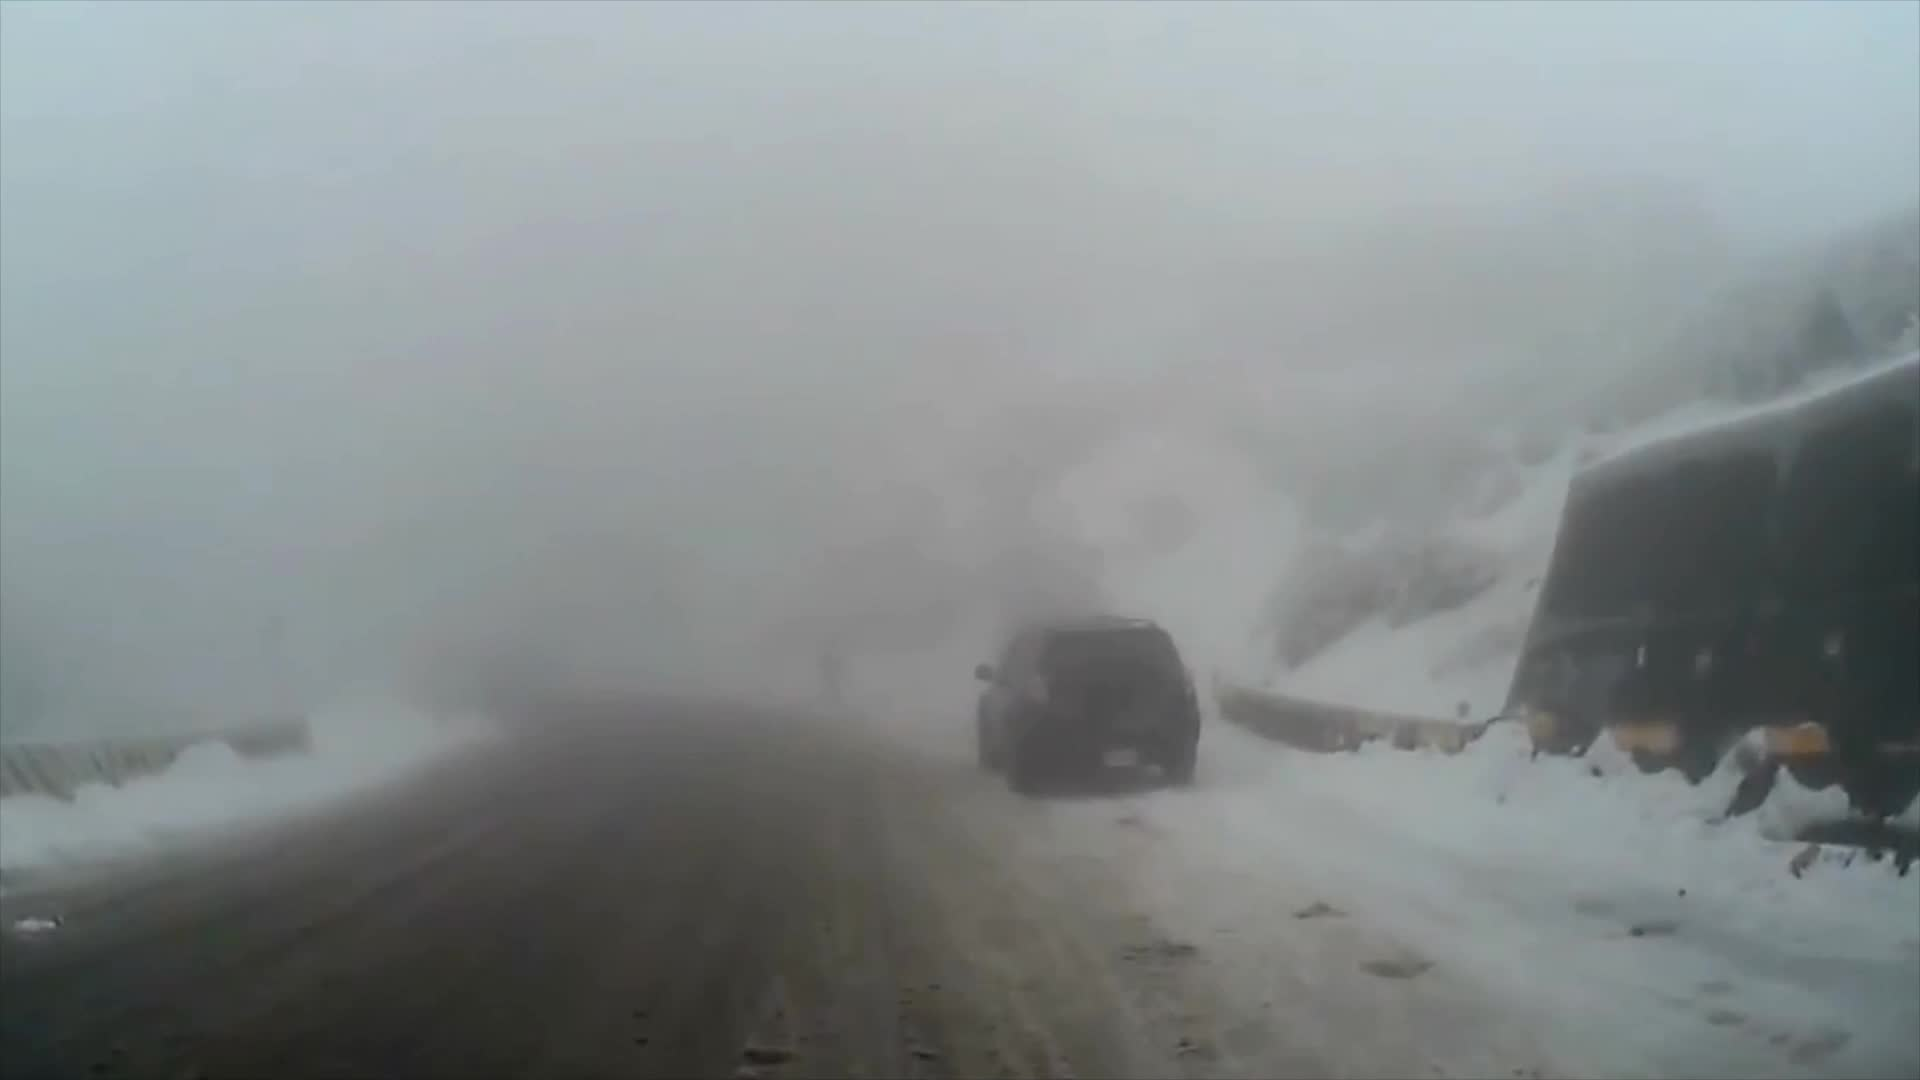vehicle: (967, 611, 1199, 796)
